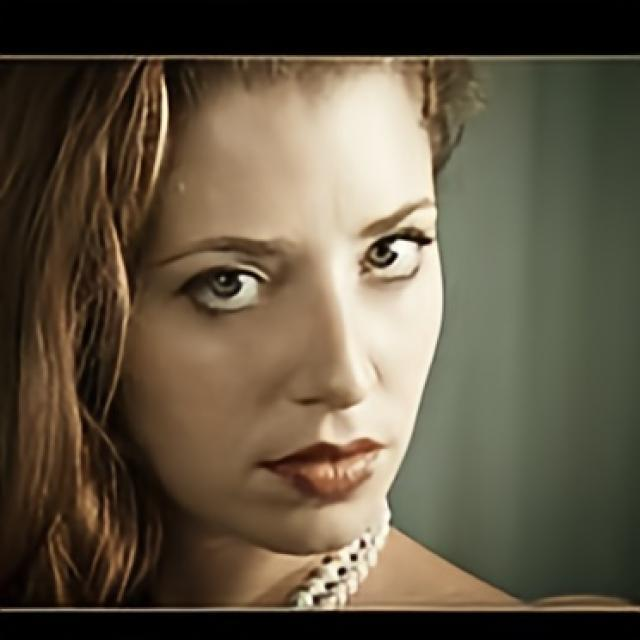neutral: (117, 59, 447, 556)
